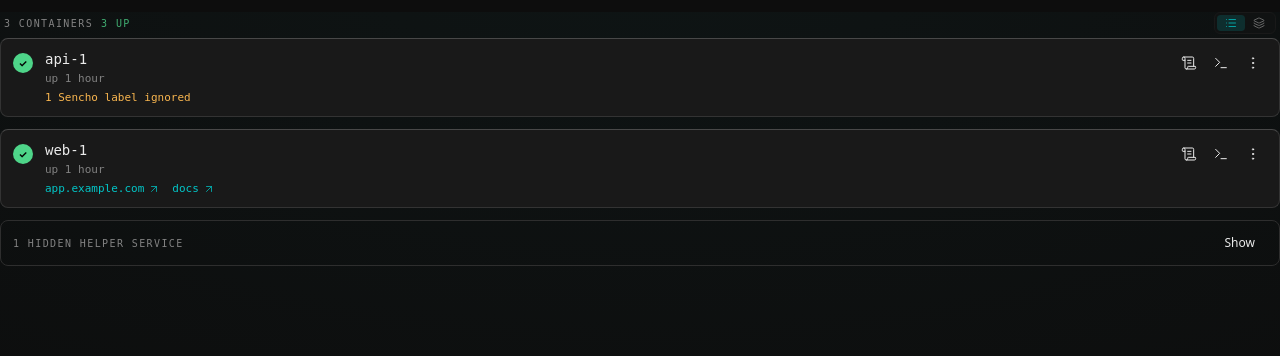
Test: io.sencho.* labels on the container list › reveals hidden services in place and collapses them again
Click the button "Show".
click(1240, 243)  # box [1212,229,1267,257]
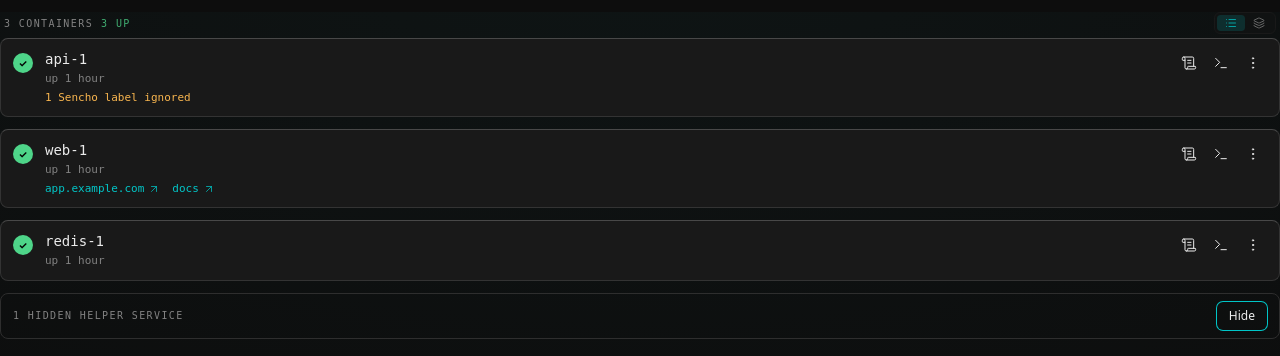
Expected: the text "redis-1" is shown, [45,231,104,251]
Click the button "Hide".
click(1242, 316)  # box [1217,302,1267,330]
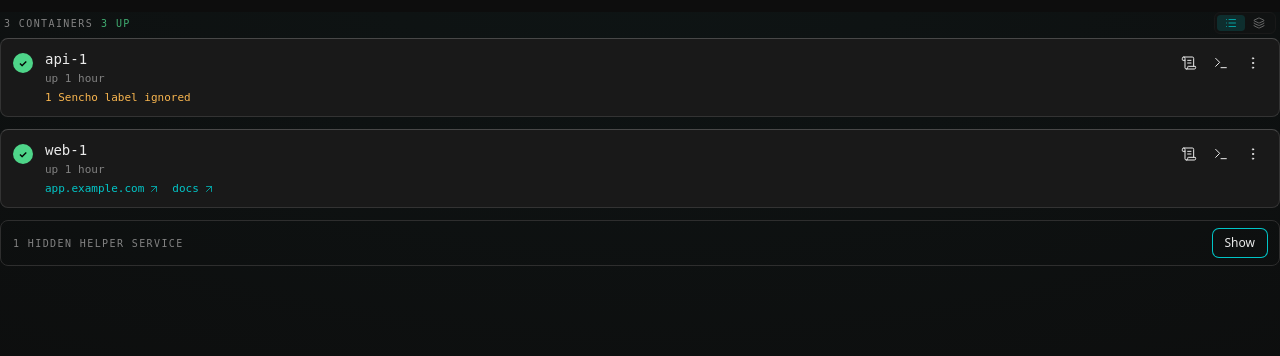
Expected: the text "redis-1" is gone
